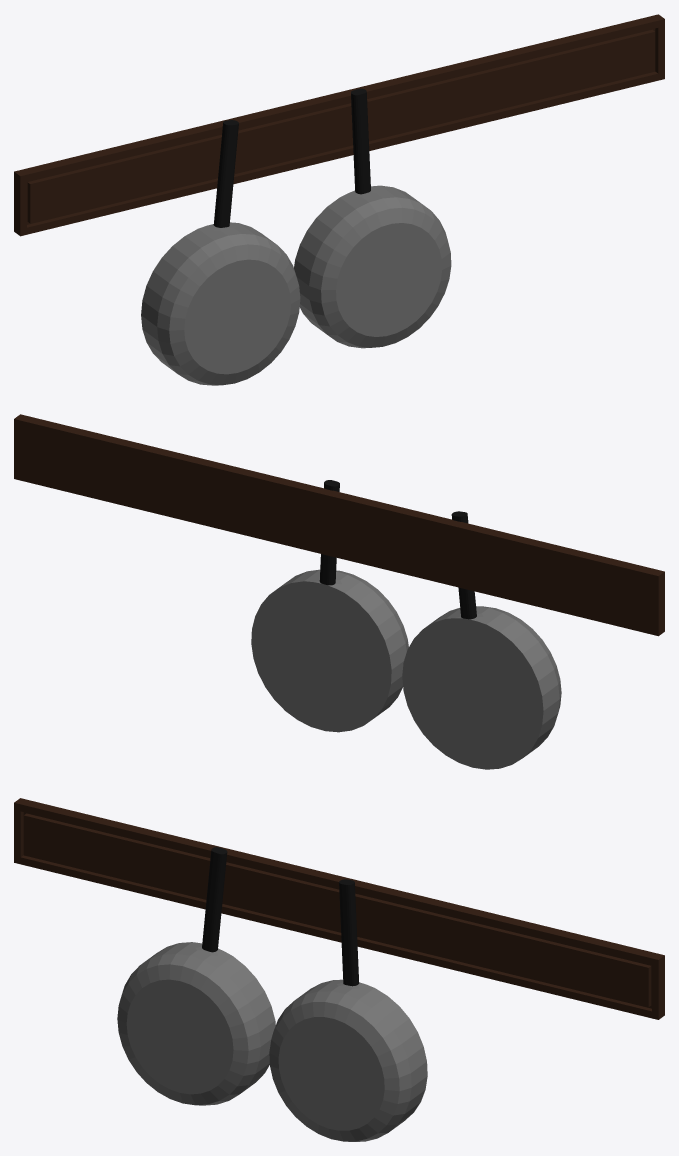
Rendered from Hanging Pots.fbx.
The picture shows the model from 3 angles, top to bottom: view 1: azimuth 30°, elevation 25°; view 2: azimuth 150°, elevation 25°; view 3: azimuth 330°, elevation 25°; orthographic projection.
Visible parts, largest first — view 1: Cube.082; view 2: Cube.082; view 3: Cube.082.
Part boxes in pixels (left/top/right/bottom): Cube.082: left=14, top=14, right=664, bottom=385; Cube.082: left=14, top=414, right=664, bottom=769; Cube.082: left=14, top=798, right=664, bottom=1141.
Bounding box in the file's own units: 192 × 70.78 × 16.55.
